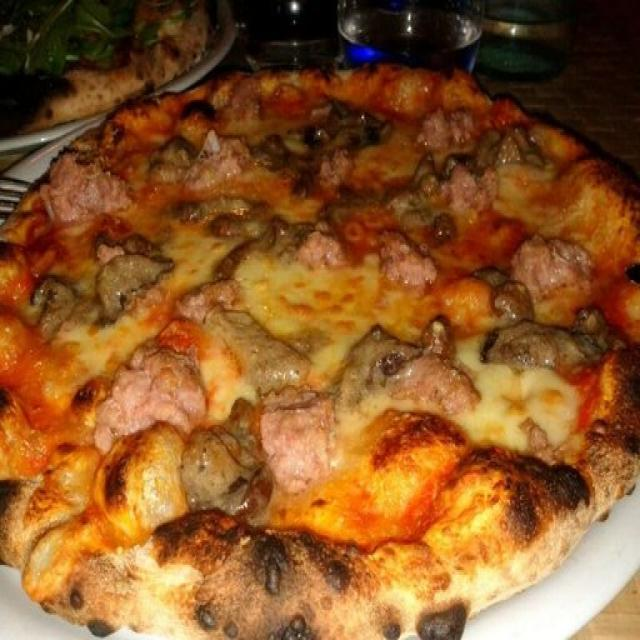Beef: (97, 353, 204, 429), (263, 408, 339, 481), (42, 166, 127, 217), (404, 352, 474, 412), (375, 229, 444, 289), (509, 239, 591, 287), (428, 182, 487, 226), (419, 106, 471, 147), (296, 227, 343, 269), (207, 136, 246, 181)
Pizza: (0, 65, 640, 640)
Rucola: (0, 0, 120, 64)
